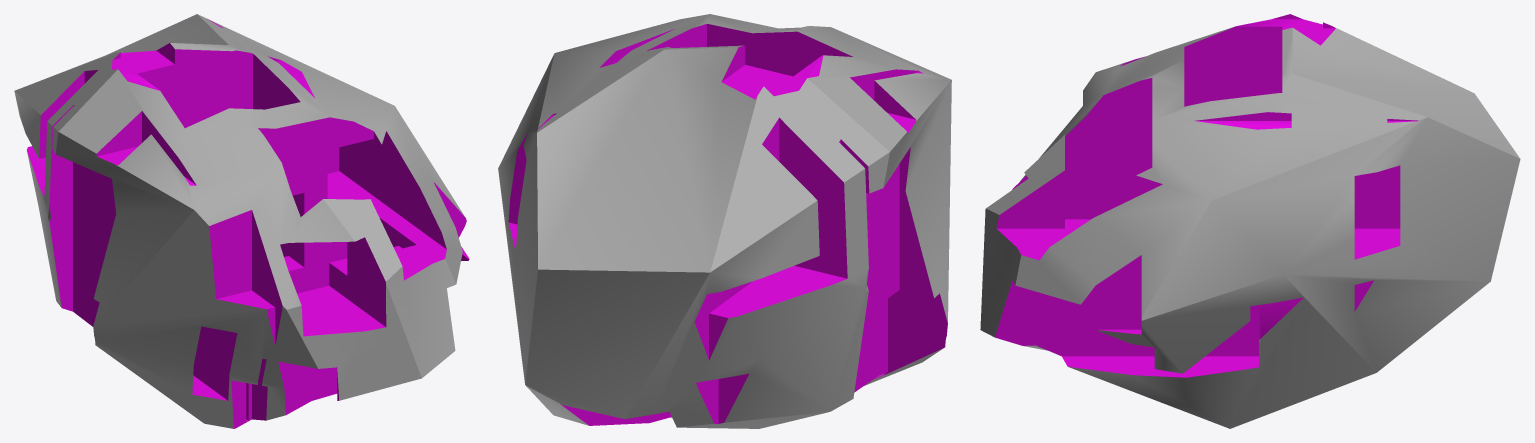
Rendered from Boulder_2_Glitch.fbx.
3 renders of one model, left to right at view 1: azimuth 30°, elevation 25°; view 2: azimuth 150°, elevation 25°; view 3: azimuth 270°, elevation 25°, orthographic. The views are drawn at different scales.
Visible parts, largest first — view 1: Boulder_2_Glitch; view 2: Boulder_2_Glitch; view 3: Boulder_2_Glitch.
Boxes of the visible parts, box(x1,y1,x2,y2) form: Boulder_2_Glitch: box(14, 14, 469, 428); Boulder_2_Glitch: box(498, 14, 951, 428); Boulder_2_Glitch: box(980, 14, 1520, 428).
Bounding box in the file's own units: 3.9 × 3.49 × 5.19.
